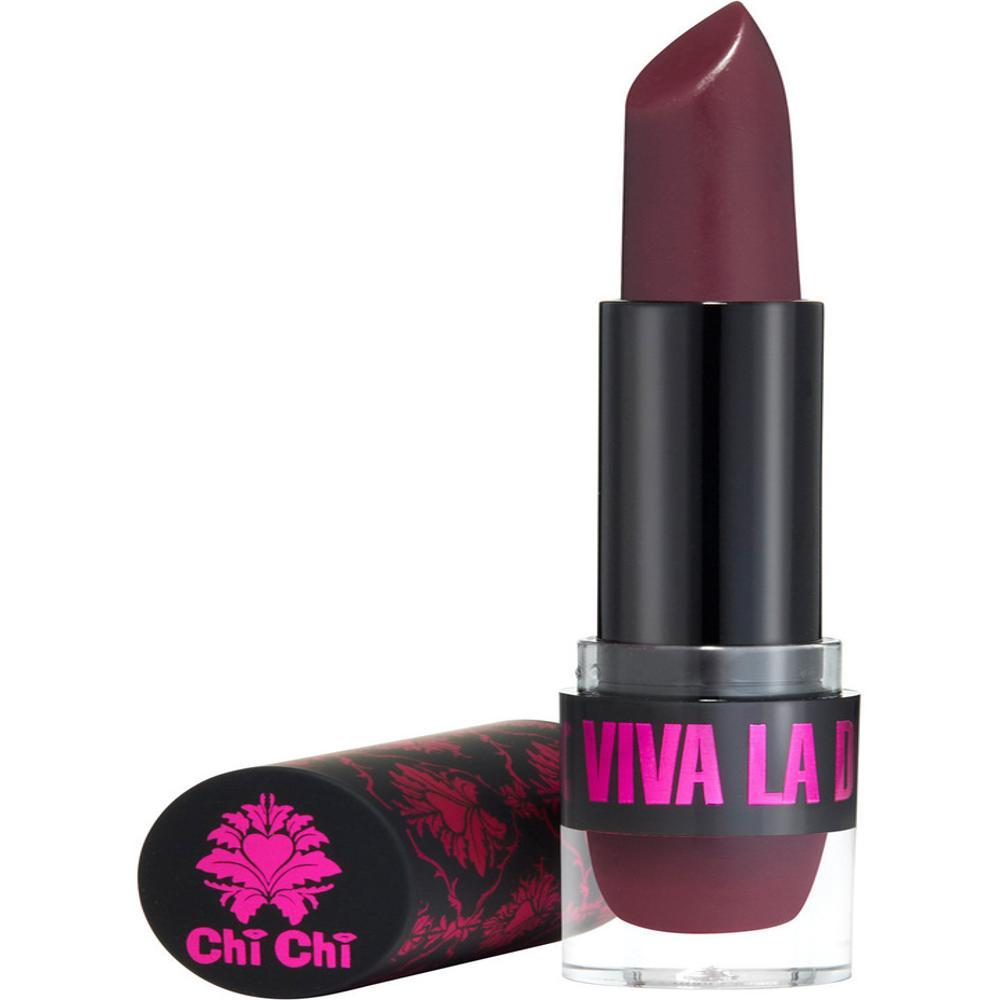lipstick: (568, 0, 878, 915)
